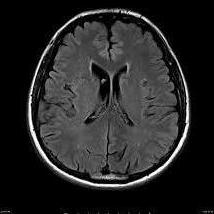Normal_Brain: (6, 1, 214, 214)
